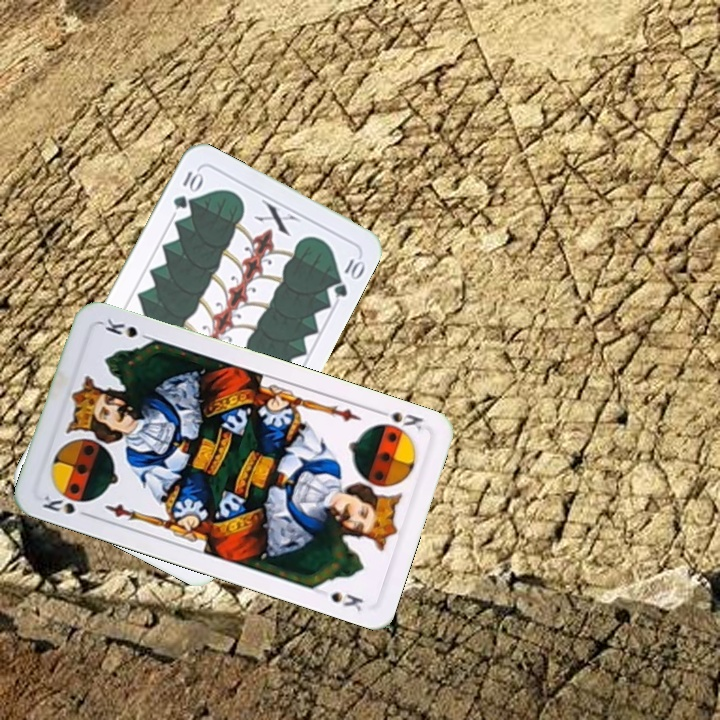G10: (169, 165, 205, 213)
SK: (371, 405, 426, 439), (38, 490, 94, 520)
